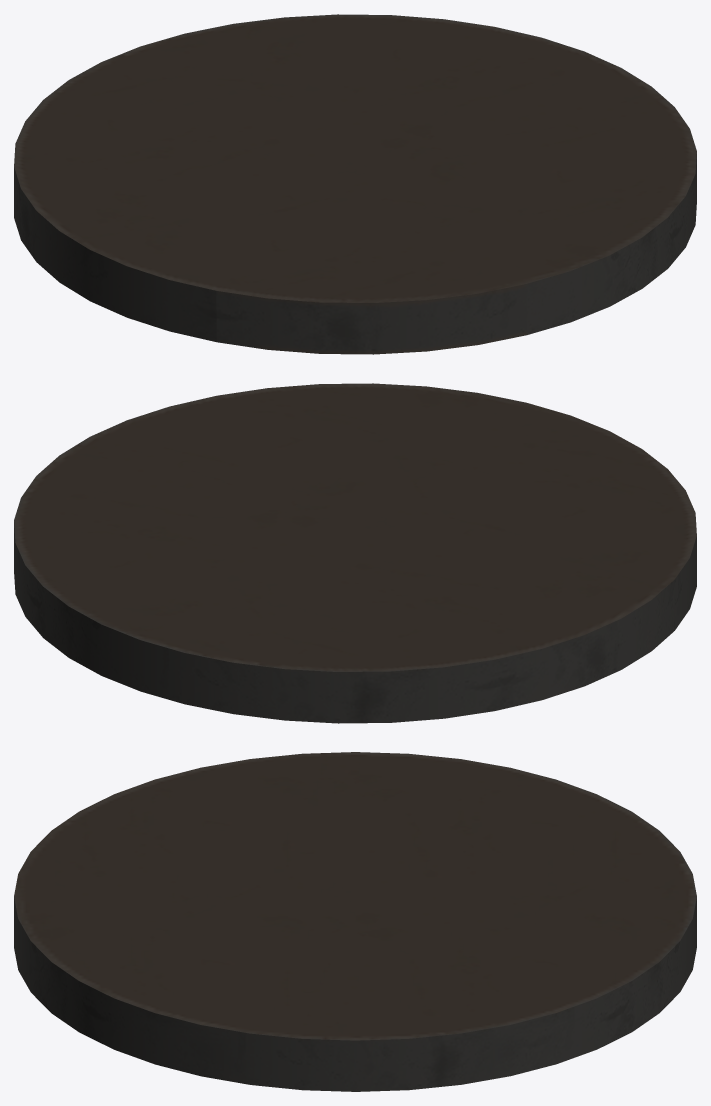
Rendered from SM_Teapod_A1_Base.fbx.
3 views of the same model, one above another, from view 1: azimuth 30°, elevation 25°; view 2: azimuth 150°, elevation 25°; view 3: azimuth 270°, elevation 25° (orthographic).
Visible parts, largest first — view 1: SM_Teapod_A1_Base; view 2: SM_Teapod_A1_Base; view 3: SM_Teapod_A1_Base.
Part boxes in pixels (bbox=[...]): SM_Teapod_A1_Base: bbox=[14, 14, 696, 354]; SM_Teapod_A1_Base: bbox=[14, 383, 696, 723]; SM_Teapod_A1_Base: bbox=[14, 752, 696, 1091].
Bounding box in the file's own units: 17.24 × 17.24 × 1.43.
1 material, 1 textured.
